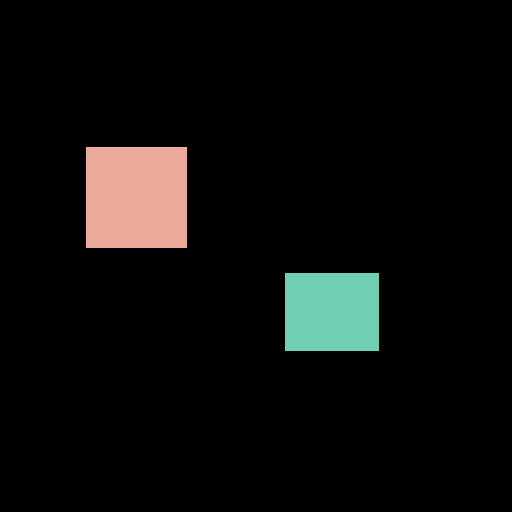rectangle: (285, 273, 378, 350)
square: (86, 147, 186, 247)
